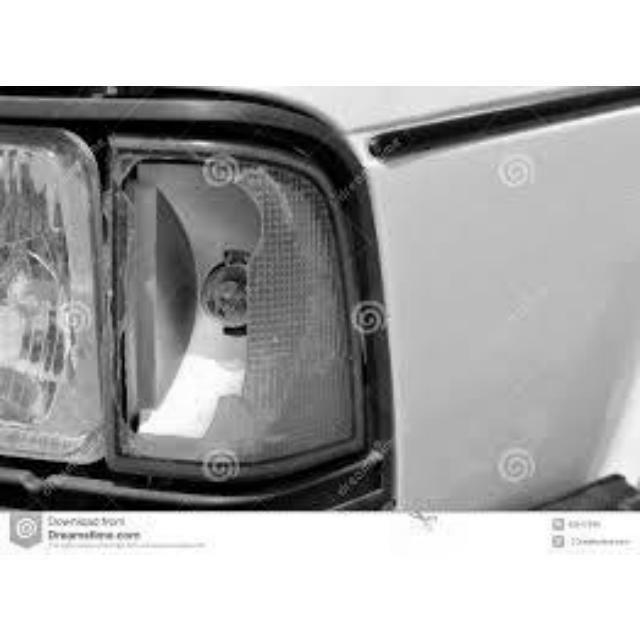Taillight-Damage: (1, 88, 394, 486)
